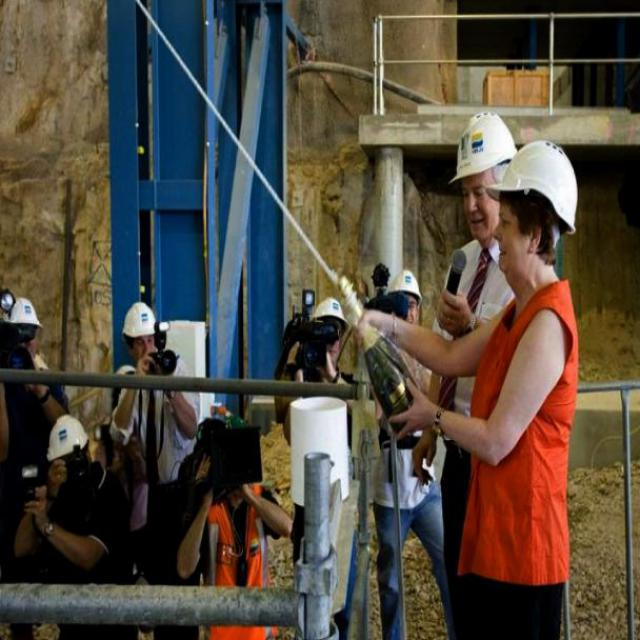helmet: (489, 136, 580, 284), (446, 111, 499, 237), (104, 297, 168, 383), (44, 415, 92, 485), (309, 289, 348, 357)
